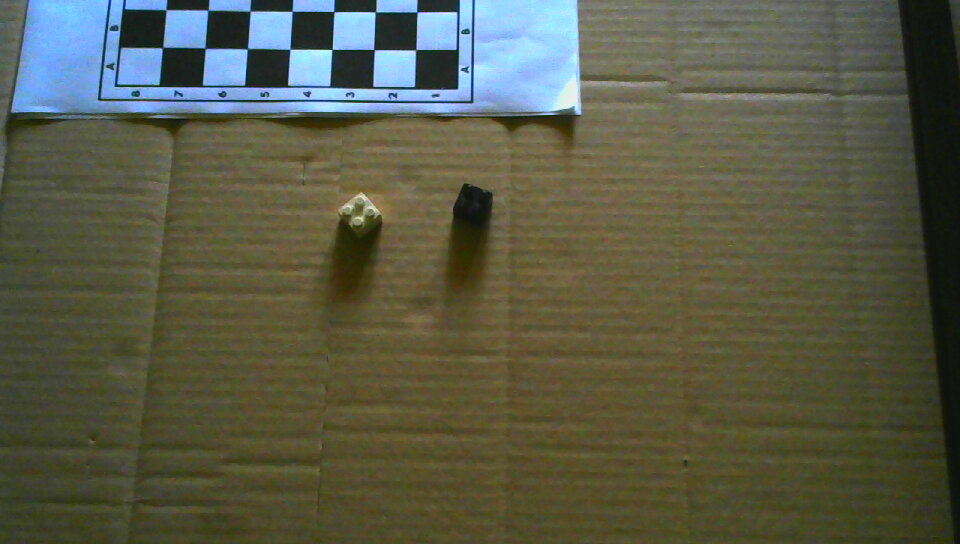bp: (452, 182, 494, 226)
wp: (338, 192, 383, 238)
